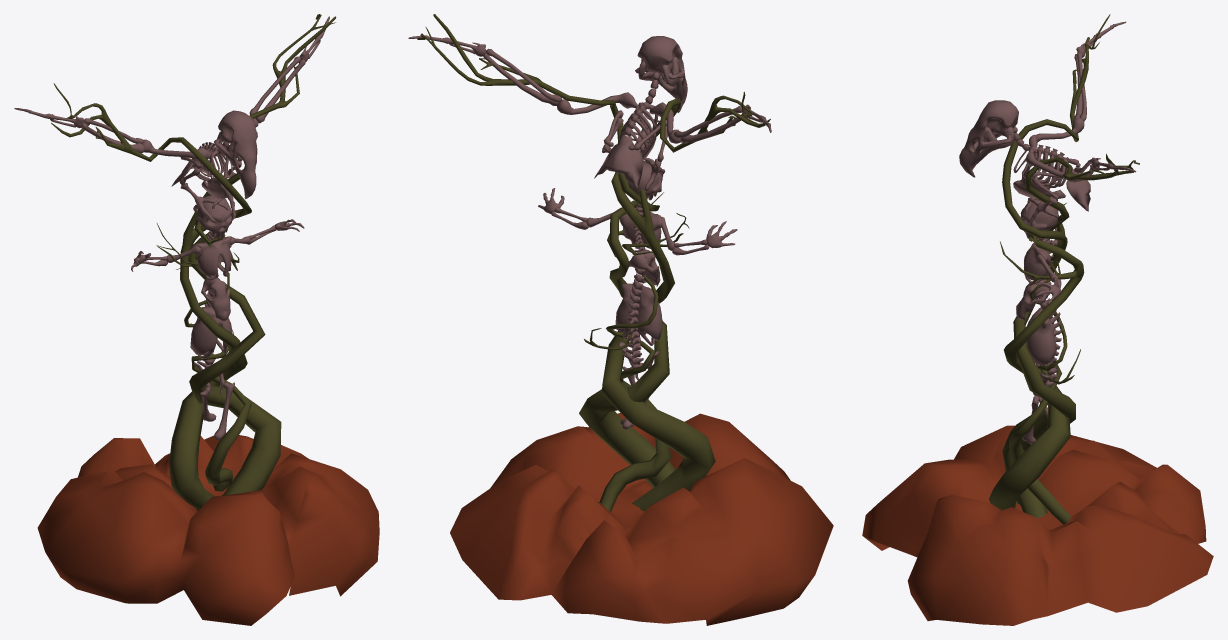
Rendered from SM_Totem-Final-02.FBX.
3 renders of one model, left to right at view 1: azimuth 30°, elevation 25°; view 2: azimuth 150°, elevation 25°; view 3: azimuth 270°, elevation 25°, orthographic. The views are drawn at different scales.
Parts seen in each view (by area): view 1: Lo_Rocks, Lo_Root001, Lo_Root002, Lo_Bird_Skeleton, Lo_Human_Skeleton, Lo_Dog_Skeleton, Lo_Root003; view 2: Lo_Rocks, Lo_Bird_Skeleton, Lo_Root001, Lo_Root002, Lo_Dog_Skeleton, Lo_Human_Skeleton, Lo_Root003; view 3: Lo_Rocks, Lo_Bird_Skeleton, Lo_Root002, Lo_Root001, Lo_Dog_Skeleton, Lo_Root003, Lo_Human_Skeleton.
Boxes of the visible parts, bbox=[...] form: Lo_Rocks: bbox=[37, 432, 379, 625]; Lo_Root001: bbox=[51, 83, 251, 511]; Lo_Root002: bbox=[189, 14, 336, 495]; Lo_Bird_Skeleton: bbox=[14, 16, 329, 223]; Lo_Human_Skeleton: bbox=[131, 195, 304, 280]; Lo_Dog_Skeleton: bbox=[190, 277, 234, 440]; Lo_Root003: bbox=[156, 223, 251, 491]; Lo_Rocks: bbox=[450, 413, 833, 625]; Lo_Bird_Skeleton: bbox=[408, 35, 771, 191]; Lo_Root001: bbox=[602, 91, 770, 511]; Lo_Root002: bbox=[417, 14, 675, 487]; Lo_Dog_Skeleton: bbox=[615, 249, 662, 429]; Lo_Human_Skeleton: bbox=[538, 162, 737, 257]; Lo_Root003: bbox=[584, 213, 689, 511]; Lo_Rocks: bbox=[862, 425, 1213, 625]; Lo_Bird_Skeleton: bbox=[959, 21, 1136, 225]; Lo_Root002: bbox=[989, 153, 1139, 510]; Lo_Root001: bbox=[1002, 14, 1110, 517]; Lo_Dog_Skeleton: bbox=[1016, 279, 1061, 444]; Lo_Root003: bbox=[1009, 203, 1080, 524]; Lo_Human_Skeleton: bbox=[1020, 199, 1061, 303].
Bounding box in the file's own units: 488 × 723 × 453.
